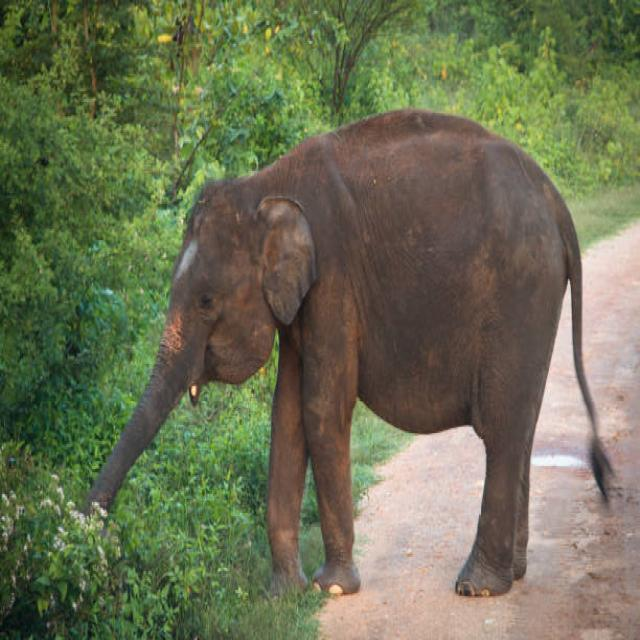Elephant: (91, 121, 627, 611)
